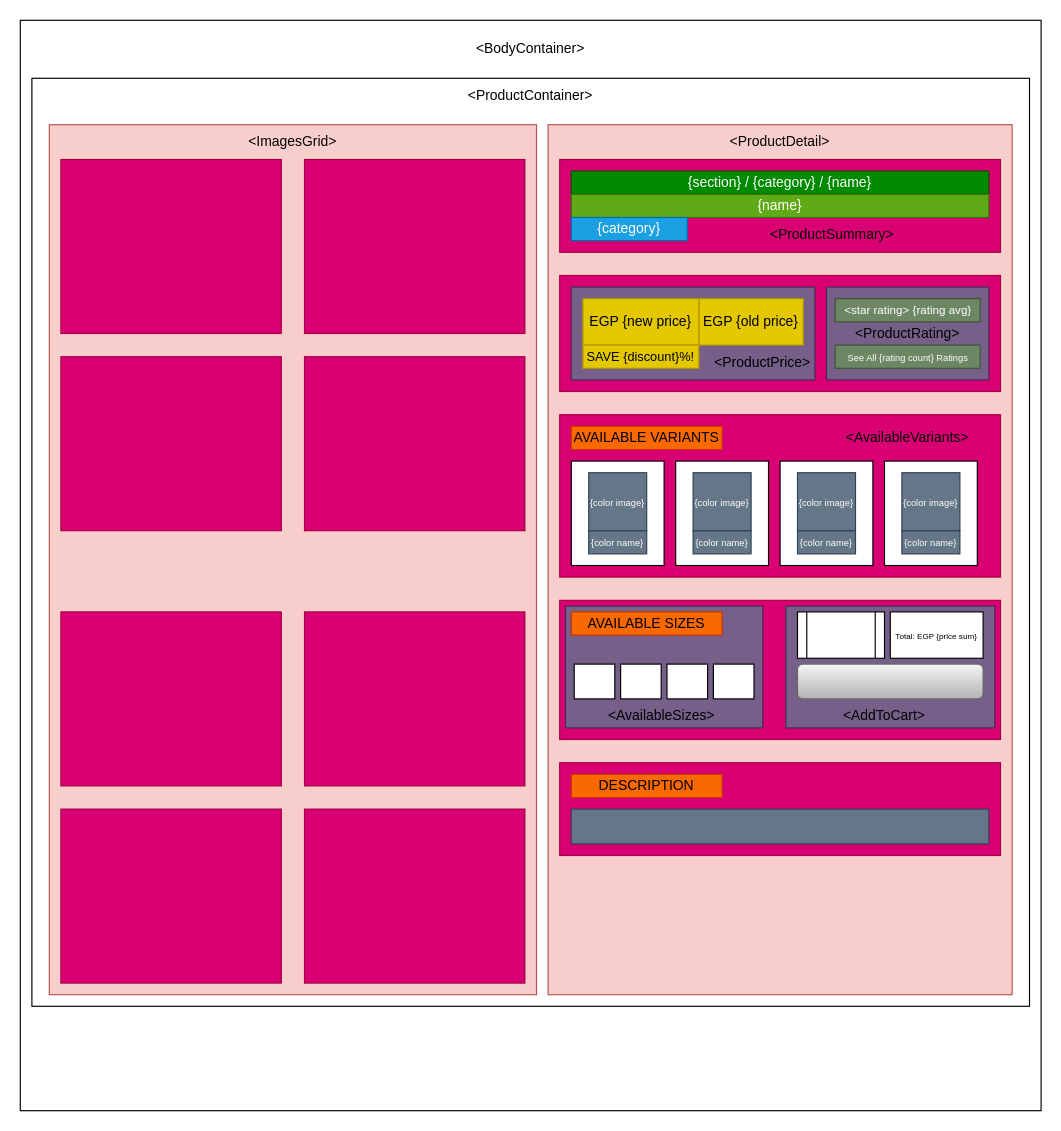
Image size: 1061x1131. Some labels were removed from this diagram. Each missing label, with the box of its shape:
[Quantity Selector]: (796, 611, 884, 658)
ADD TO CART: (796, 663, 983, 699)
{description}: (570, 808, 989, 844)
{variant images}: (48, 124, 536, 995)
